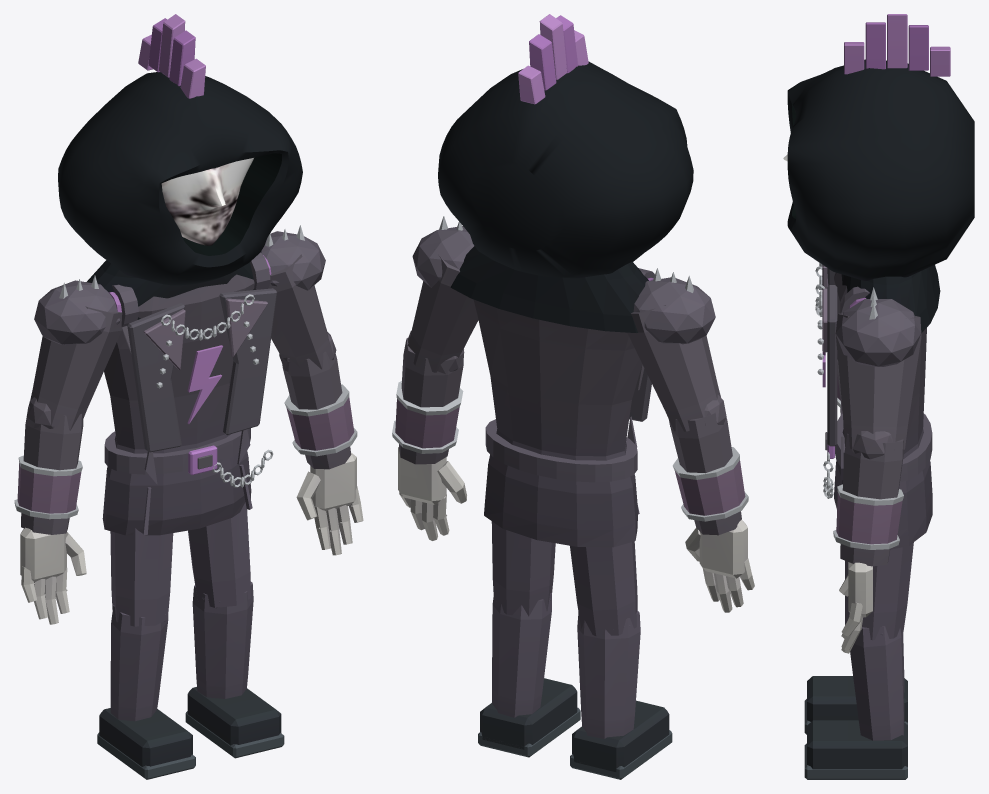
The model's file is HoodedStrangerPunk.glb.
3 views of the same model, side by side, from view 1: azimuth 30°, elevation 25°; view 2: azimuth 150°, elevation 25°; view 3: azimuth 270°, elevation 25° (orthographic). The views are drawn at different scales.
Visible parts, largest first — view 1: Head, Body, ArmR, ArmL, LegR, LegL, HeadFace; view 2: Head, Body, ArmR, ArmL, LegR, LegL; view 3: Head, ArmL, LegL, Body, LegR.
Boxes of the visible parts, bbox=[...] form: Head: bbox=[58, 14, 302, 325]; Body: bbox=[102, 252, 277, 535]; ArmR: bbox=[14, 275, 122, 624]; ArmL: bbox=[261, 225, 363, 555]; LegR: bbox=[97, 528, 195, 779]; LegL: bbox=[185, 502, 284, 758]; HeadFace: bbox=[161, 158, 253, 245]; Head: bbox=[438, 14, 693, 332]; Body: bbox=[473, 268, 654, 547]; ArmR: bbox=[627, 268, 754, 612]; ArmL: bbox=[392, 216, 478, 540]; LegR: bbox=[570, 541, 672, 779]; LegL: bbox=[478, 521, 580, 757]; Head: bbox=[787, 14, 974, 332]; ArmL: bbox=[833, 287, 921, 653]; LegL: bbox=[804, 542, 913, 779]; Body: bbox=[815, 263, 932, 549]; LegR: bbox=[804, 560, 907, 734].
Size of the model in its own units: 3.74 by 7.55 by 1.78.
2 materials, 1 textured.
